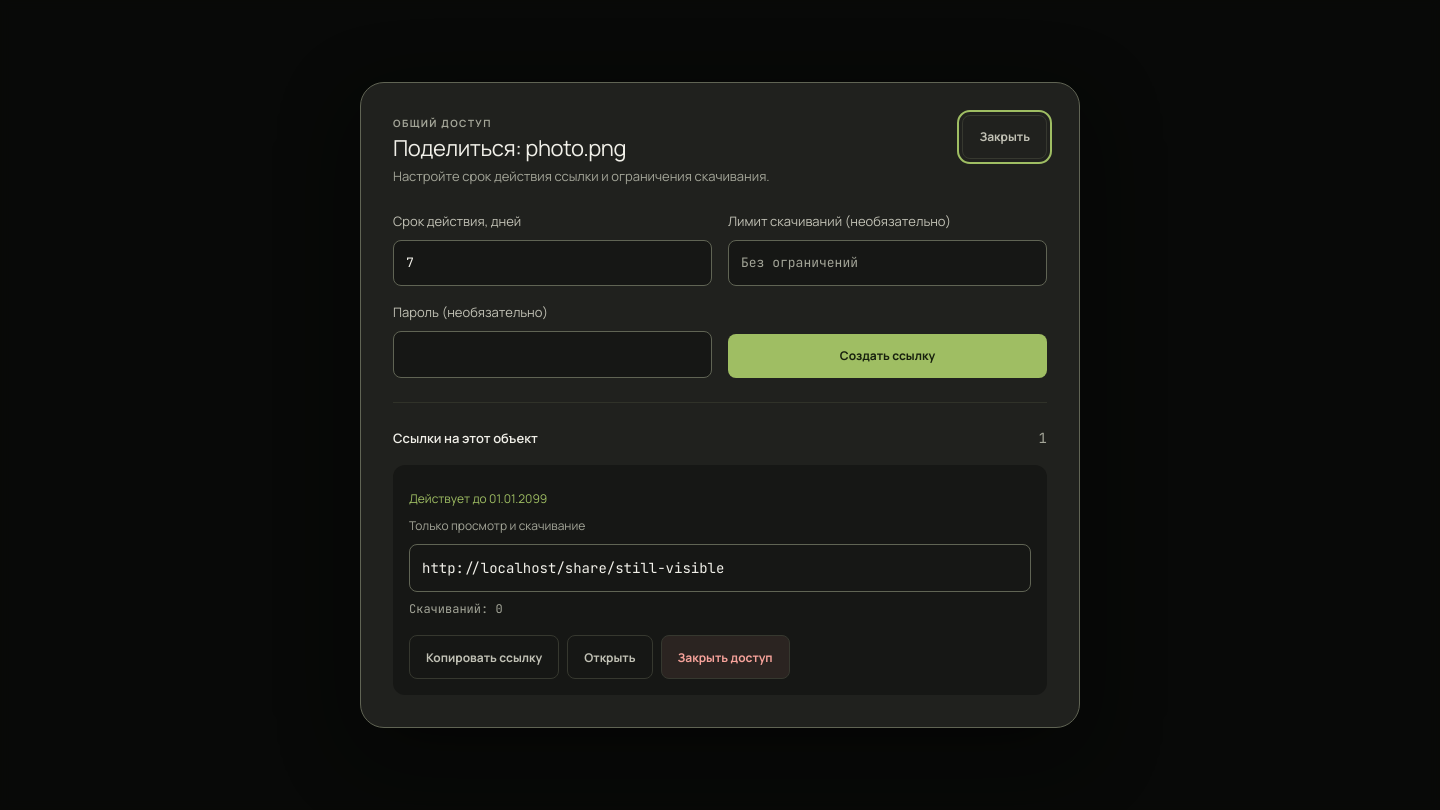
Test: ShareDialog › reports clipboard failure while leaving the URL visible
Click the button "Копировать ссылку": (484, 657) [409,635,559,679]
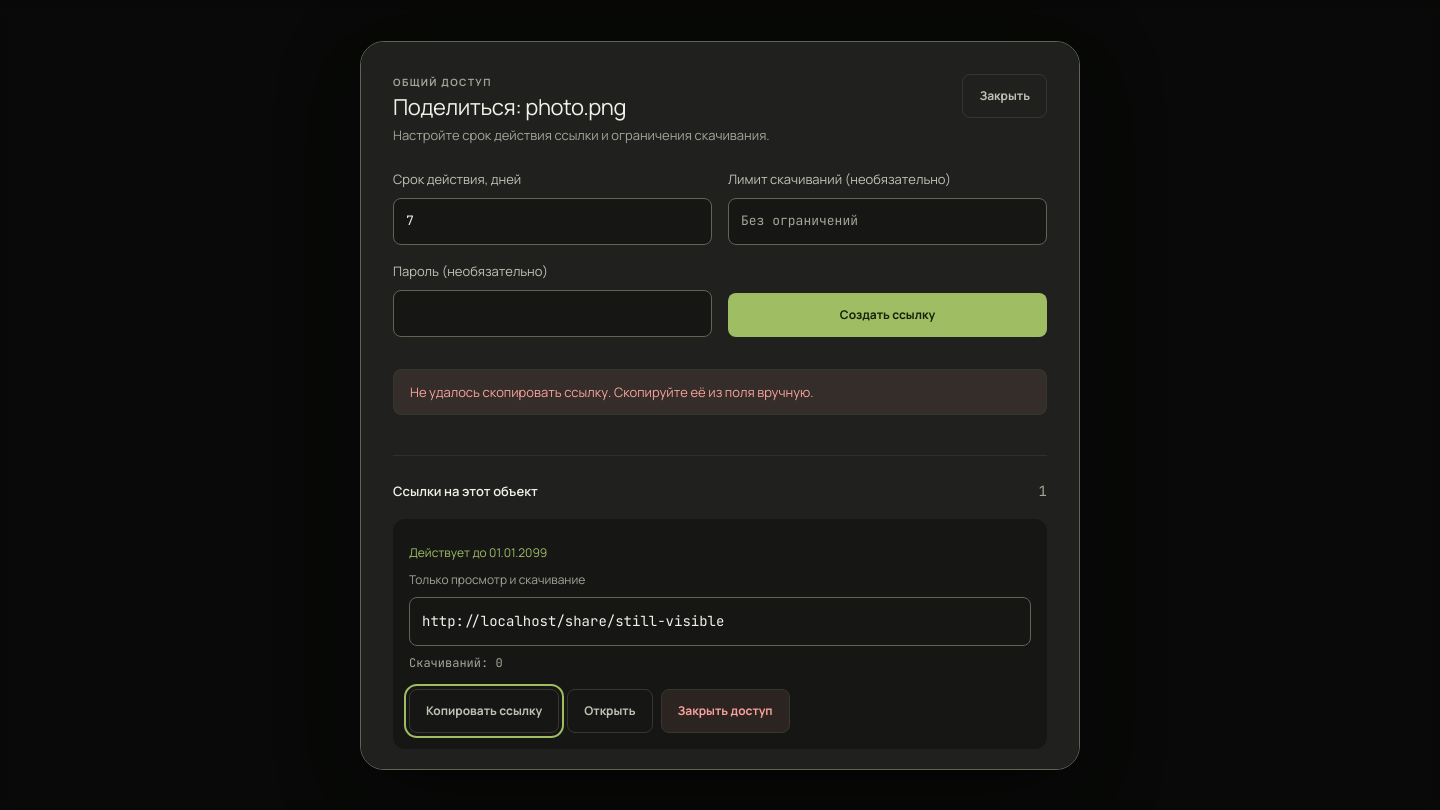
expect the field showing "still-visible" is shown: met, box [409,597,1031,646]
expect the message shows "Не удалось скопировать ссылку": met, box [410,383,814,401]
